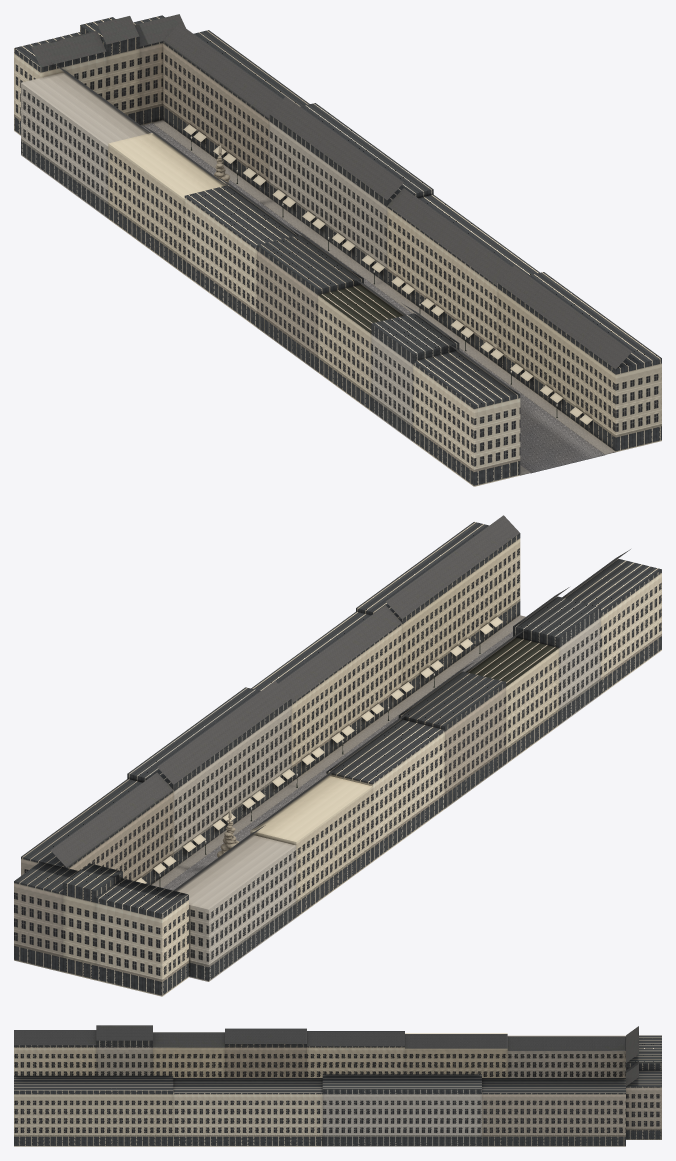
Rendered from lamarr-vienna-graben-mobile.glb.
3 views of the same model, one above another, from view 1: azimuth 30°, elevation 25°; view 2: azimuth 150°, elevation 25°; view 3: azimuth 270°, elevation 25° (orthographic). The views are drawn at different scales.
Parts seen in each view (by area): view 1: artifact_street_front_right, front_right_2, artifact_street_front_left, front_left_6, front_right_1, front_right_3, front_left_5, front_left_4, front_left_3, front_left_2, front_left_1, sidewalk_right (+12 smaller); view 2: front_right_2, artifact_street_front_right, front_left_6, front_right_1, front_far_0, front_left_5, front_left_4, front_left_3, artifact_street_front_left, front_right_3, front_left_2, front_left_1 (+9 smaller); view 3: front_right_2, artifact_street_front_right, front_right_1, front_right_3, front_left_6, front_left_4, front_left_3, front_left_5, artifact_street_front_left, front_far_2, front_left_2, front_left_1 (+11 smaller).
Part boxes in pixels (x1,y1,x2,y2): artifact_street_front_right: (497, 272, 661, 452); front_right_2: (269, 103, 433, 283); artifact_street_front_left: (413, 350, 520, 486); front_left_6: (21, 72, 150, 218); front_right_1: (387, 194, 539, 364); front_right_3: (162, 30, 309, 197); front_left_5: (108, 133, 226, 274); front_left_4: (184, 185, 298, 327); front_left_3: (257, 234, 363, 372); front_left_2: (318, 284, 404, 411); front_left_1: (371, 313, 459, 441); sidewalk_right: (152, 120, 615, 454); front_right_2: (127, 687, 291, 868); artifact_street_front_right: (356, 522, 520, 701); front_left_6: (175, 835, 296, 981); front_right_1: (251, 611, 401, 781); front_far_0: (96, 878, 188, 996); front_left_5: (250, 776, 372, 917); front_left_4: (326, 719, 444, 861); front_left_3: (398, 671, 505, 808); artifact_street_front_left: (563, 558, 661, 694); front_right_3: (21, 779, 173, 885); front_left_2: (466, 637, 559, 764); front_left_1: (513, 596, 600, 725); front_right_2: (322, 1074, 481, 1146); artifact_street_front_right: (14, 1075, 173, 1146); front_right_1: (173, 1078, 322, 1146); front_right_3: (482, 1078, 625, 1146); front_left_6: (507, 1035, 625, 1077); front_left_4: (307, 1031, 404, 1077); front_left_3: (225, 1028, 306, 1077); front_left_5: (405, 1033, 507, 1077); artifact_street_front_left: (14, 1030, 96, 1075); front_far_2: (626, 1070, 661, 1139); front_left_2: (153, 1032, 224, 1077); front_left_1: (96, 1025, 152, 1075).
Size of what is drawn, in the model's own units: 57 by 30.1 by 252.
Materials: 8 (7 with a texture image).
